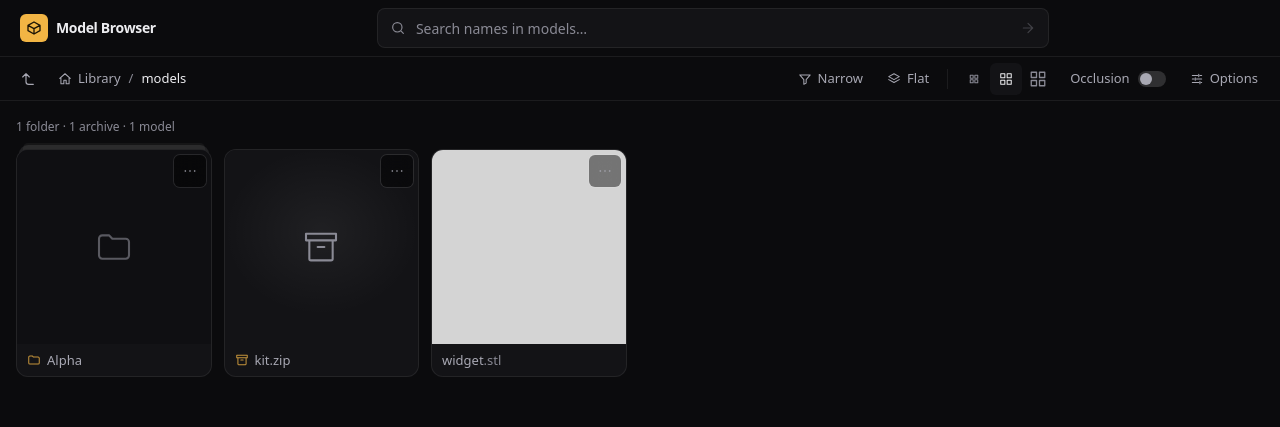
Test: what a launch does, and what it does not › says so when the launch command fails, and says nothing when it succeeds
The width and height of the screenshot is (1280, 427).
Press the mouse on the button "widget.stl": (529, 263) x1=431 y1=149 x2=626 y2=377
Right-click the button "widget.stl": (529, 263) x1=431 y1=149 x2=626 y2=377
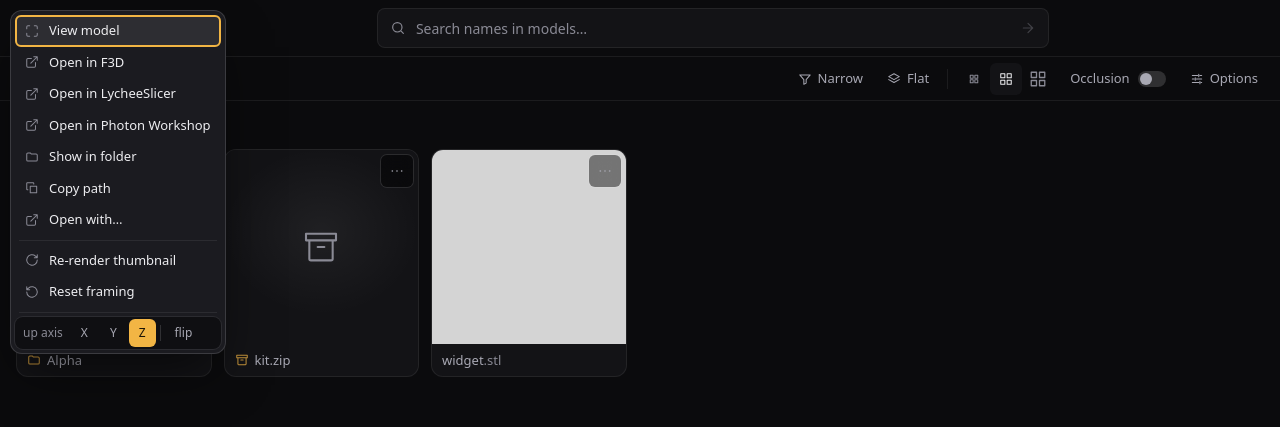
Click the menu item "Open in F3D": (118, 62) x1=15 y1=46 x2=220 y2=78
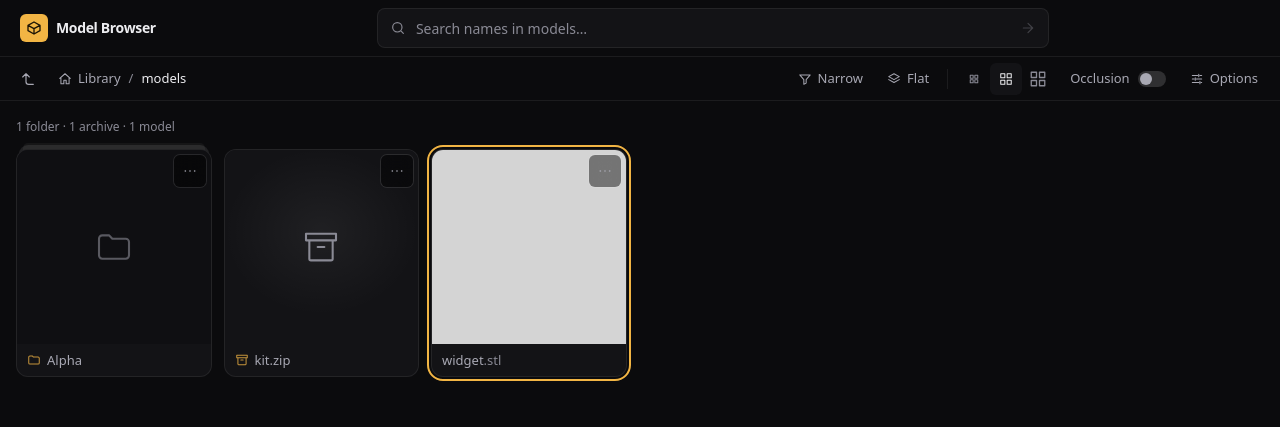
Press the mouse on the button "widget.stl": (529, 263) x1=431 y1=149 x2=626 y2=377
Right-click the button "widget.stl": (529, 263) x1=431 y1=149 x2=626 y2=377
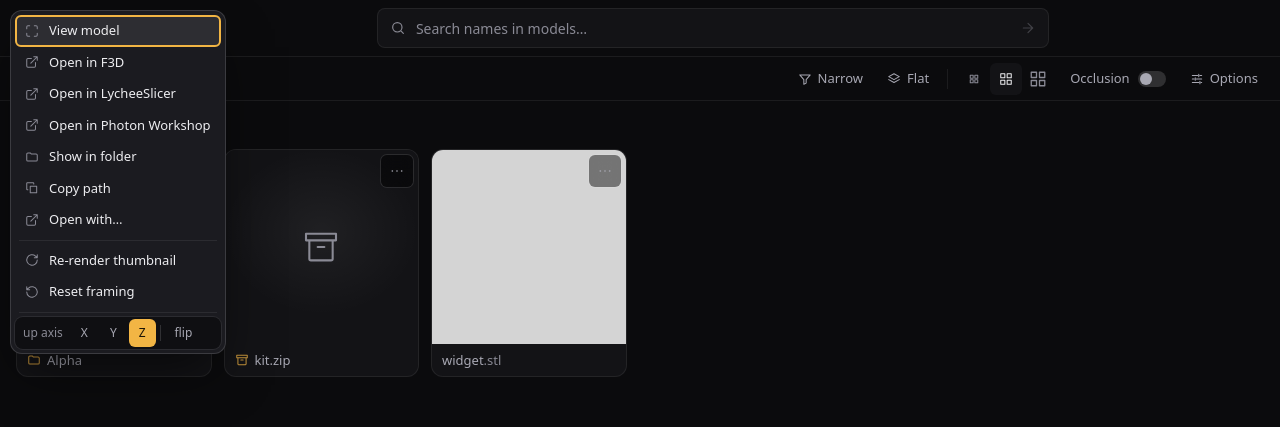
Click the menu item "Open in F3D": (118, 62) x1=15 y1=46 x2=220 y2=78
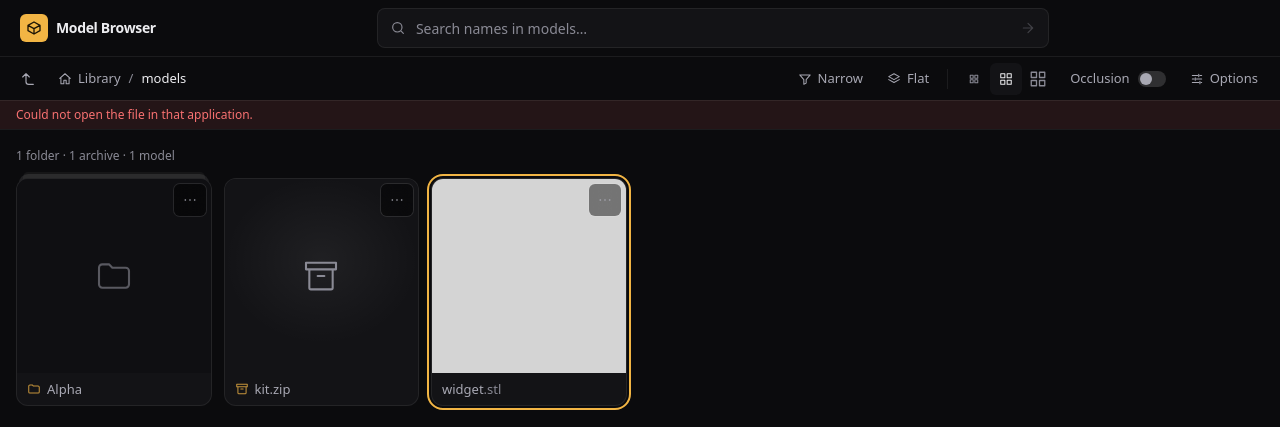
Check: the message "Could not open the file in that application." is shown, box x1=0 y1=100 x2=1279 y2=129
